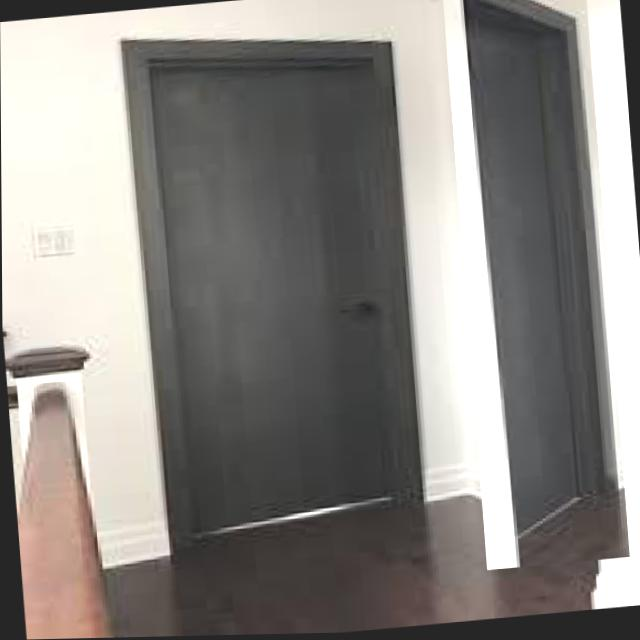close: (103, 4, 442, 564), (442, 0, 630, 575)
